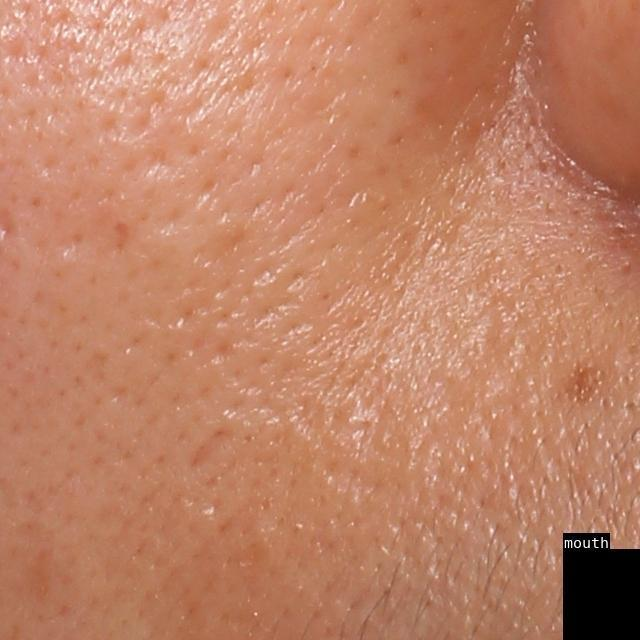atrophic_scar: (189, 422, 240, 472)
nevus: (565, 359, 601, 403)
